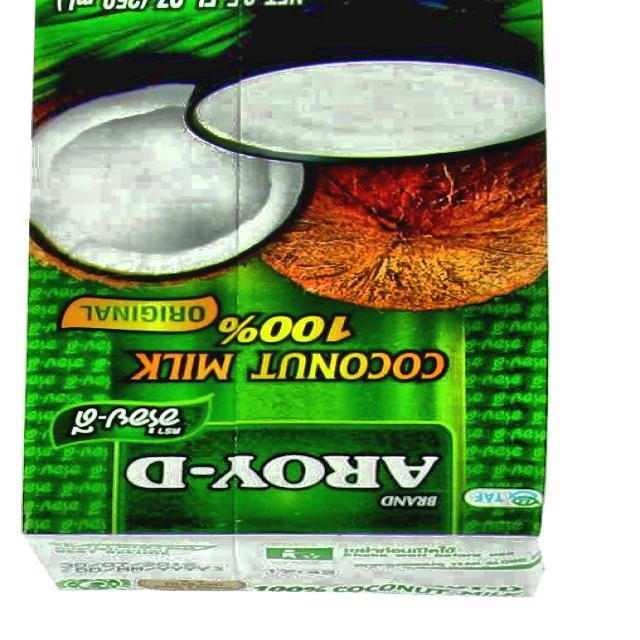cardboard: (24, 0, 551, 599)
